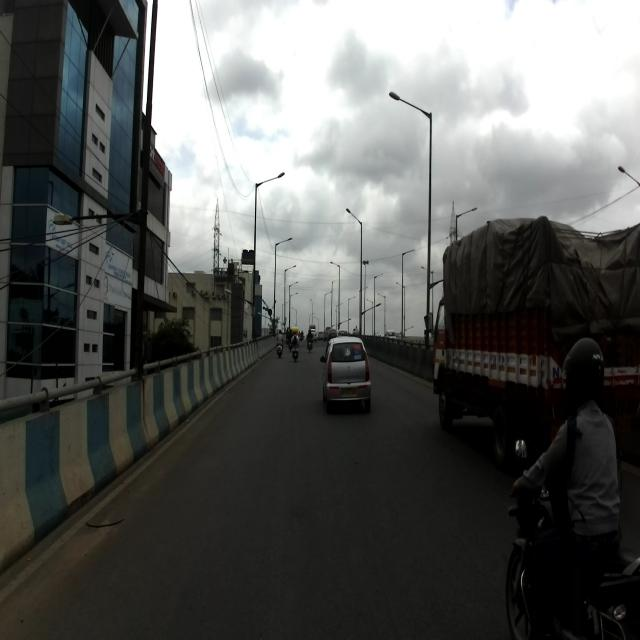Car_TATA: (320, 336, 371, 414)
motorcycle_bajaj: (503, 437, 640, 639)
truck: (426, 214, 640, 478)
